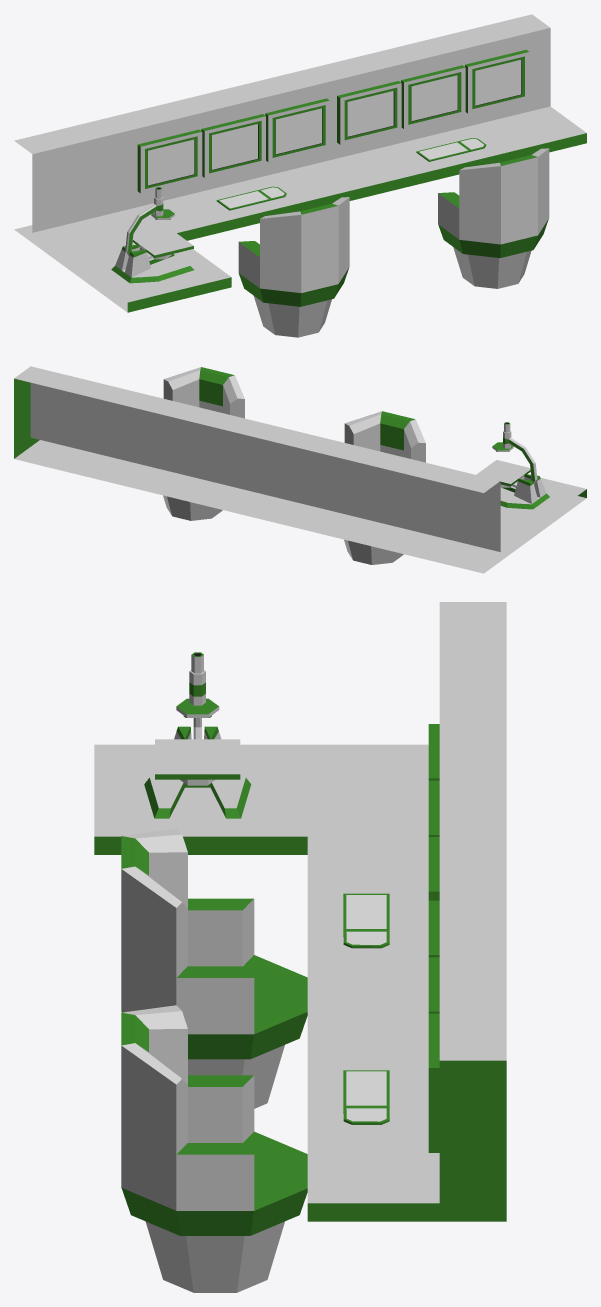
Rendered from Surgery_Lab.fbx.
3 views of the same model, one above another, from view 1: azimuth 30°, elevation 25°; view 2: azimuth 150°, elevation 25°; view 3: azimuth 270°, elevation 25° (orthographic). The views are drawn at different scales.
Parts seen in each view (by area): view 1: Surgery_Lab; view 2: Surgery_Lab; view 3: Surgery_Lab.
Part boxes in pixels (<box>): Surgery_Lab: <box>14,14,586,337</box>; Surgery_Lab: <box>14,366,586,573</box>; Surgery_Lab: <box>94,602,506,1292</box>.
Bounding box in the file's own units: 7.3 × 2.78 × 2.34.
